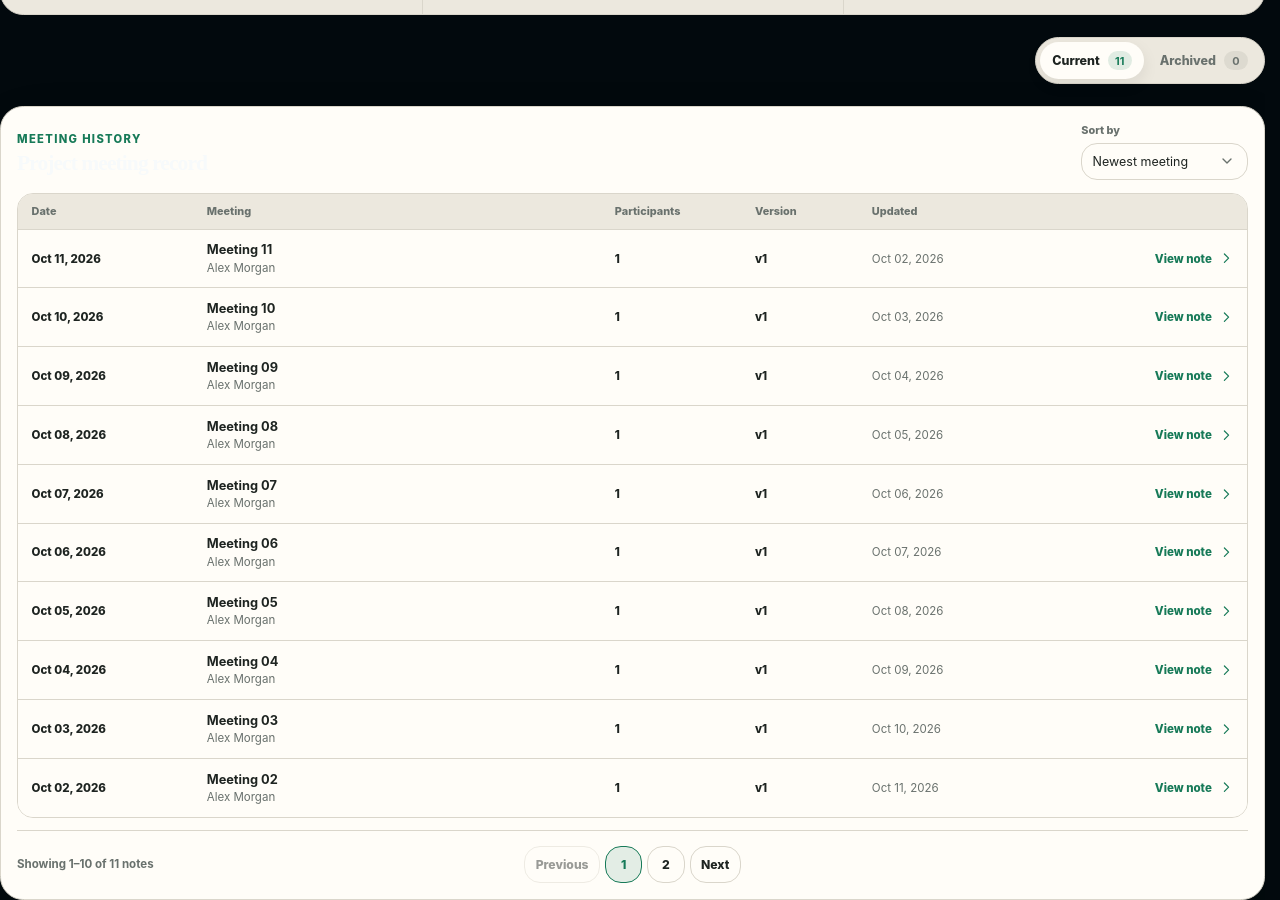
Test: Meeting Notes sorting and pagination › paginates eleven notes, shows page numbers and keeps summary totals
The width and height of the screenshot is (1280, 900).
(page scrolled)
Expected: the text "Meeting 11" is shown, [207,242,272,258]
Expected: the text "Meeting 01" is not shown
Click the button "Next".
click(715, 864)  # box [690,846,741,883]
(page scrolled)
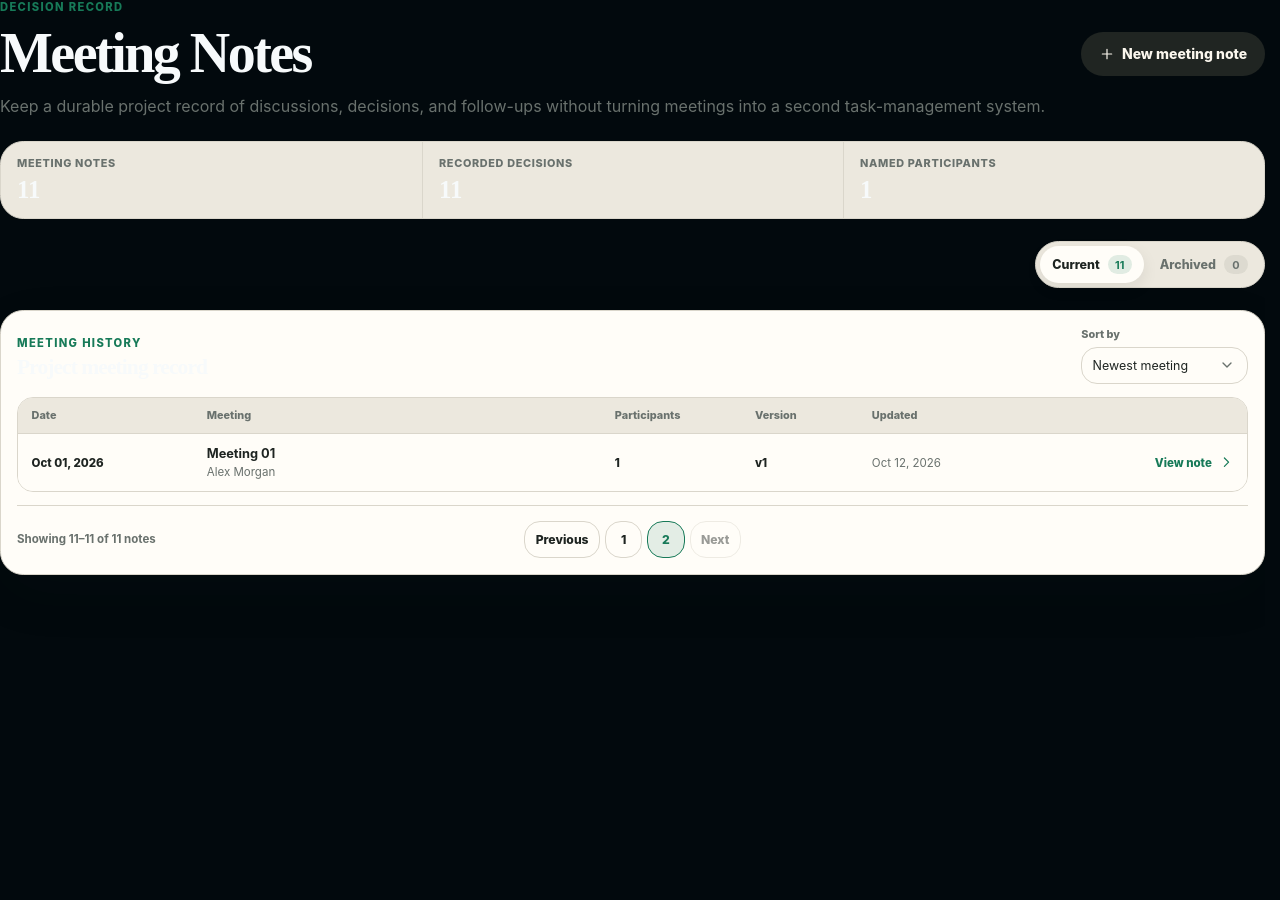
Now the text "Meeting 01" is shown, box [207,446,275,462]
Now the link "Meeting 11" is gone
Now the text "Showing 11–11 of 11 notes" is shown, box [17,532,156,546]
